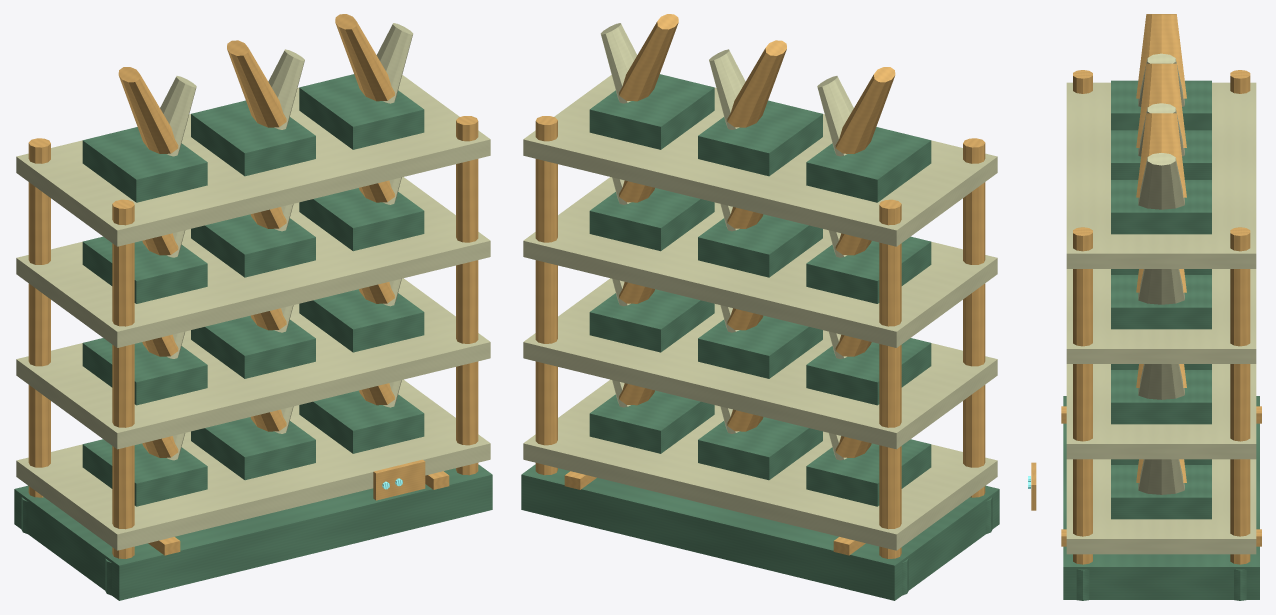
The model's file is atlas100-s005-a01.glb.
3 views of the same model, side by side, from view 1: azimuth 30°, elevation 25°; view 2: azimuth 150°, elevation 25°; view 3: azimuth 270°, elevation 25° (orthographic). The views are drawn at different scales.
Visible parts, largest first — view 1: atlas100-s005-a01:part-041, atlas100-s005-a01:part-021, atlas100-s005-a01:part-031, atlas100-s005-a01:part-000, atlas100-s005-a01:part-011, atlas100-s005-a01:part-005, atlas100-s005-a01:part-009, atlas100-s005-a01:part-048, atlas100-s005-a01:part-042, atlas100-s005-a01:part-045, atlas100-s005-a01:part-003, atlas100-s005-a01:part-038 (+15 smaller); view 2: atlas100-s005-a01:part-041, atlas100-s005-a01:part-000, atlas100-s005-a01:part-021, atlas100-s005-a01:part-031, atlas100-s005-a01:part-011, atlas100-s005-a01:part-003, atlas100-s005-a01:part-007, atlas100-s005-a01:part-048, atlas100-s005-a01:part-042, atlas100-s005-a01:part-045, atlas100-s005-a01:part-005, atlas100-s005-a01:part-038 (+14 smaller); view 3: atlas100-s005-a01:part-041, atlas100-s005-a01:part-021, atlas100-s005-a01:part-011, atlas100-s005-a01:part-031, atlas100-s005-a01:part-000, atlas100-s005-a01:part-007, atlas100-s005-a01:part-009, atlas100-s005-a01:part-048, atlas100-s005-a01:part-038, atlas100-s005-a01:part-028, atlas100-s005-a01:part-018, atlas100-s005-a01:part-042 (+17 smaller).
Boxes of the visible parts, bbox=[...] form: atlas100-s005-a01:part-041: bbox=[16, 75, 490, 246]; atlas100-s005-a01:part-021: bbox=[16, 278, 490, 449]; atlas100-s005-a01:part-031: bbox=[16, 177, 490, 347]; atlas100-s005-a01:part-000: bbox=[14, 464, 492, 600]; atlas100-s005-a01:part-011: bbox=[16, 379, 490, 550]; atlas100-s005-a01:part-005: bbox=[112, 199, 134, 558]; atlas100-s005-a01:part-009: bbox=[456, 116, 478, 475]; atlas100-s005-a01:part-048: bbox=[299, 74, 424, 149]; atlas100-s005-a01:part-042: bbox=[82, 127, 207, 202]; atlas100-s005-a01:part-045: bbox=[191, 100, 315, 176]; atlas100-s005-a01:part-003: bbox=[28, 138, 50, 497]; atlas100-s005-a01:part-038: bbox=[299, 188, 424, 251]; atlas100-s005-a01:part-041: bbox=[523, 75, 997, 246]; atlas100-s005-a01:part-000: bbox=[521, 464, 999, 600]; atlas100-s005-a01:part-021: bbox=[523, 278, 997, 449]; atlas100-s005-a01:part-031: bbox=[523, 177, 997, 347]; atlas100-s005-a01:part-011: bbox=[523, 379, 997, 550]; atlas100-s005-a01:part-003: bbox=[879, 199, 901, 558]; atlas100-s005-a01:part-007: bbox=[535, 116, 557, 475]; atlas100-s005-a01:part-048: bbox=[589, 74, 714, 149]; atlas100-s005-a01:part-042: bbox=[806, 127, 931, 202]; atlas100-s005-a01:part-045: bbox=[698, 100, 822, 176]; atlas100-s005-a01:part-005: bbox=[963, 138, 985, 497]; atlas100-s005-a01:part-038: bbox=[589, 188, 714, 251]; atlas100-s005-a01:part-041: bbox=[1066, 82, 1256, 268]; atlas100-s005-a01:part-021: bbox=[1066, 364, 1256, 459]; atlas100-s005-a01:part-011: bbox=[1066, 459, 1256, 554]; atlas100-s005-a01:part-031: bbox=[1066, 269, 1256, 363]; atlas100-s005-a01:part-000: bbox=[1063, 396, 1259, 599]; atlas100-s005-a01:part-007: bbox=[1230, 227, 1250, 564]; atlas100-s005-a01:part-009: bbox=[1073, 227, 1092, 564]; atlas100-s005-a01:part-048: bbox=[1111, 180, 1211, 234]; atlas100-s005-a01:part-038: bbox=[1111, 275, 1211, 329]; atlas100-s005-a01:part-028: bbox=[1111, 370, 1211, 424]; atlas100-s005-a01:part-018: bbox=[1111, 465, 1211, 519]; atlas100-s005-a01:part-042: bbox=[1111, 80, 1211, 130].
Size of the model in its own units: 2.91 by 3.51 by 1.66.
4 materials, 4 textured.
